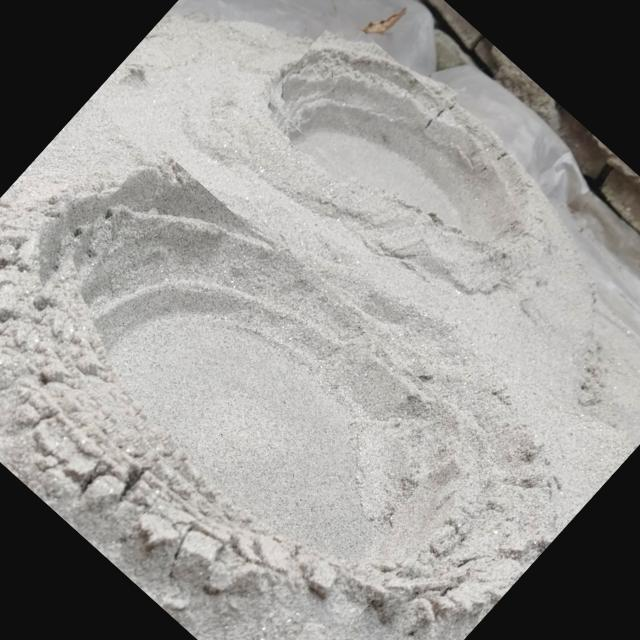C20: (78, 190, 461, 580), (278, 52, 521, 241)
